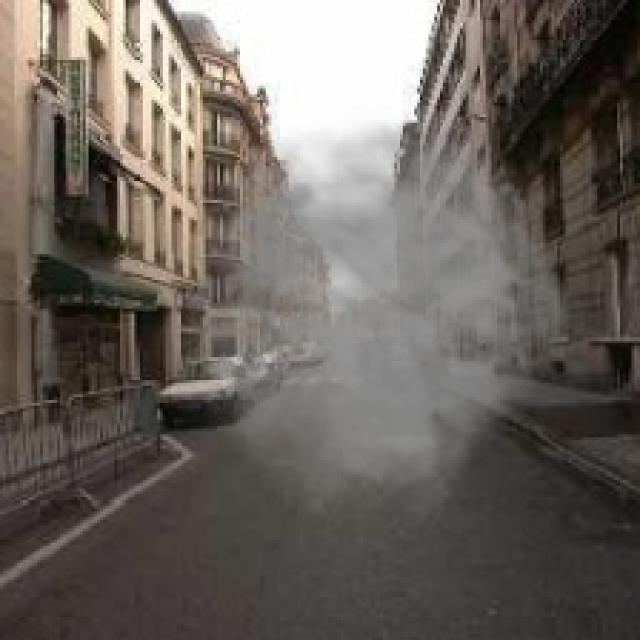smoke: (149, 106, 574, 526)
